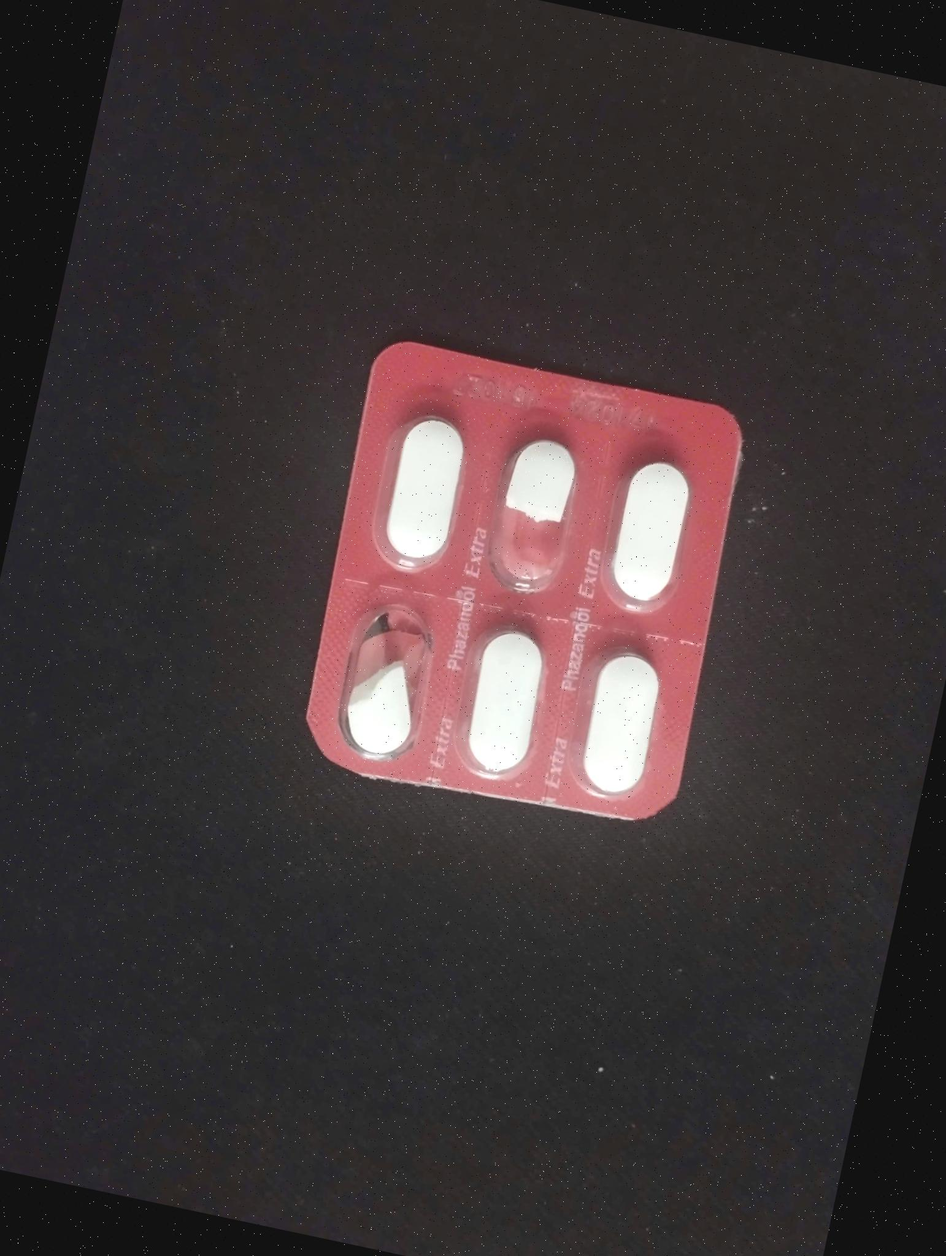Full: (363, 397, 478, 576), (598, 450, 703, 624), (451, 622, 561, 788), (569, 641, 670, 808)
Partial: (474, 424, 591, 598), (326, 607, 437, 773)
